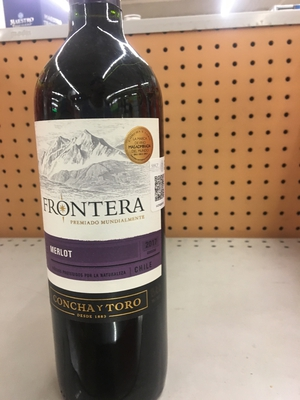frontera merlot: (40, 11, 195, 389)
